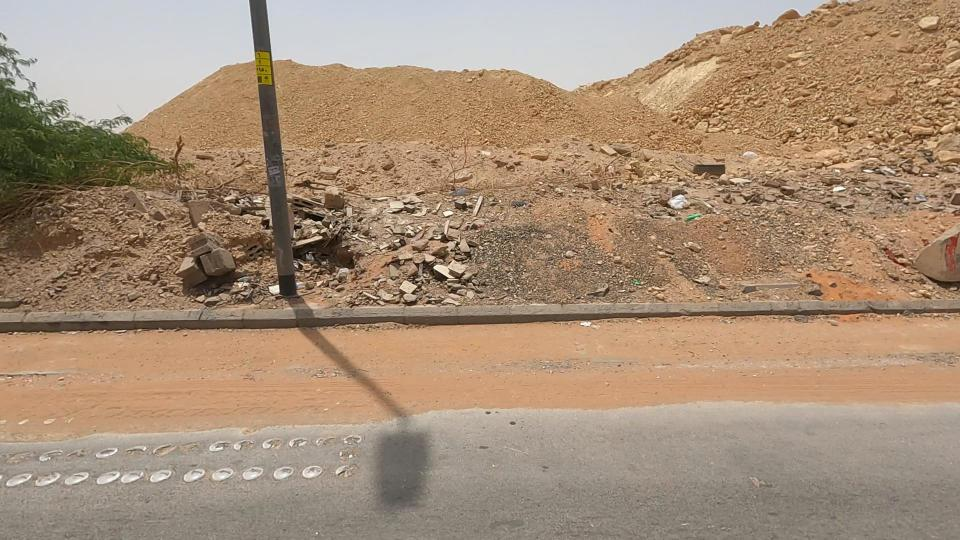GARBAGE: (233, 137, 402, 301), (602, 162, 749, 252)
